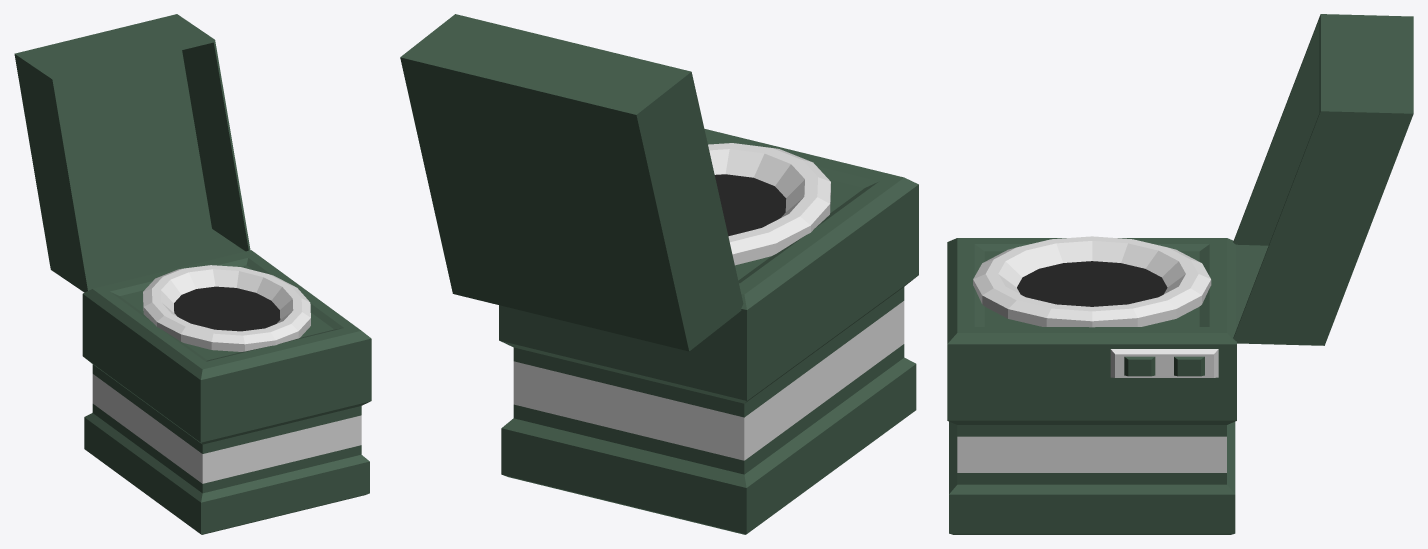
Rendered from Биотуалет.fbx.
3 views of the same model, side by side, from view 1: azimuth 30°, elevation 25°; view 2: azimuth 150°, elevation 25°; view 3: azimuth 270°, elevation 25° (orthographic). The views are drawn at different scales.
Parts seen in each view (by area): view 1: Cube, Cube.001, Cylinder; view 2: Cube, Cube.001, Cylinder; view 3: Cube, Cube.001, Cylinder.
Boxes of the visible parts, x1,y1,x2,y2 form: Cube: (82, 250, 371, 534); Cube.001: (14, 14, 250, 292); Cylinder: (143, 265, 310, 351); Cube: (499, 129, 918, 534); Cube.001: (400, 14, 743, 351); Cylinder: (708, 143, 830, 265); Cube: (947, 238, 1236, 534); Cube.001: (1233, 14, 1413, 345); Cylinder: (973, 236, 1211, 327).
Size of the model in its own units: 209 by 387 by 386.
